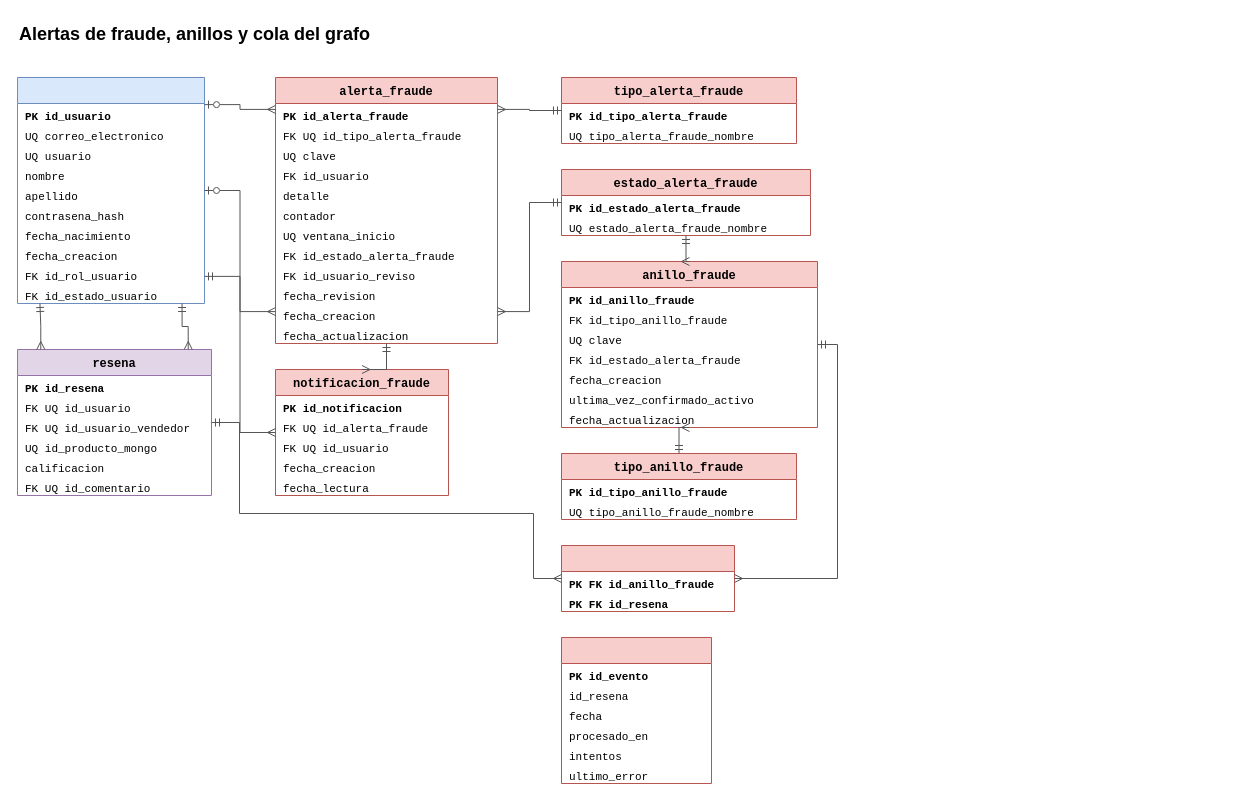
Image size: 1235x803. Some labels were removed from this diagram. Here are the shapes that lost their labels. From the top down, the box of each, then its label:
(16, 76, 204, 304): usuarios
(560, 544, 734, 612): anillo_fraude_resena
(560, 636, 712, 784): evento_grafo
